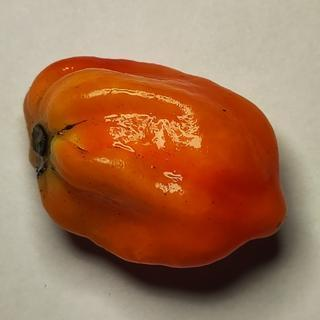Defect: (27, 117, 87, 184)
